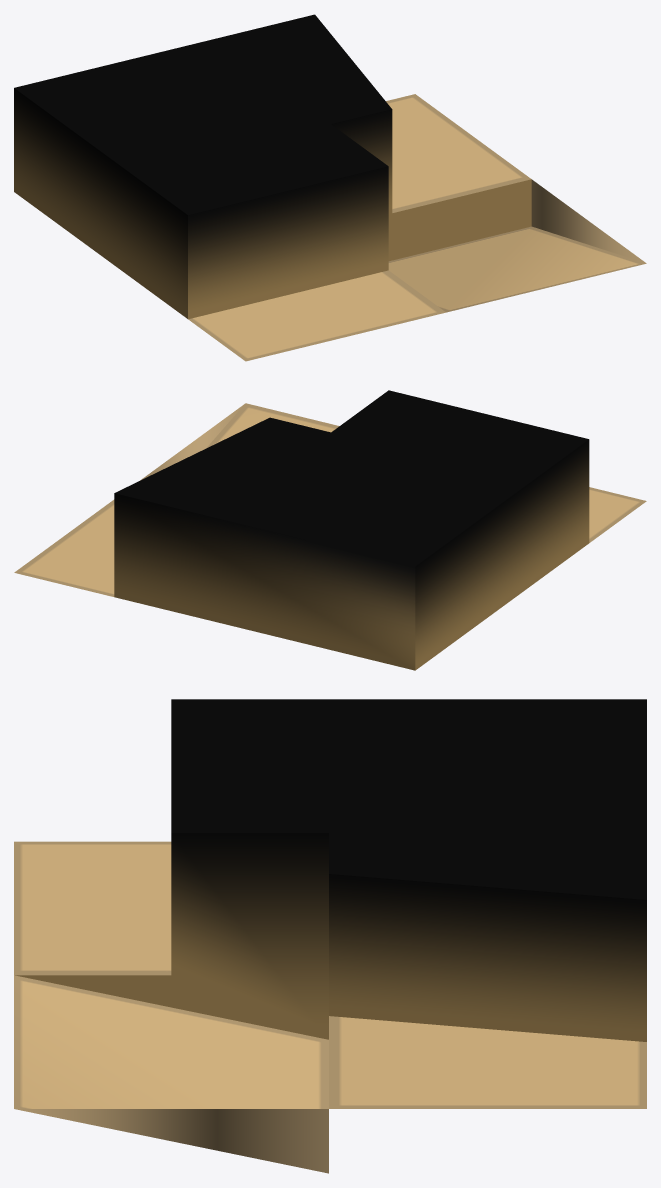
Rendered from ST_Env_Ceiling_Hole_03.fbx.
The picture shows the model from 3 angles, top to bottom: view 1: azimuth 30°, elevation 25°; view 2: azimuth 150°, elevation 25°; view 3: azimuth 270°, elevation 25°; orthographic projection. The views are drawn at different scales.
Parts seen in each view (by area): view 1: ST_Env_Ceiling_Hole_03; view 2: ST_Env_Ceiling_Hole_03; view 3: ST_Env_Ceiling_Hole_03.
Boxes of the visible parts, x1,y1,x2,y2 form: ST_Env_Ceiling_Hole_03: (14,14,646,361); ST_Env_Ceiling_Hole_03: (14,390,646,670); ST_Env_Ceiling_Hole_03: (14,699,646,1173).
Bounding box in the file's own units: 5 × 1.8 × 5.
